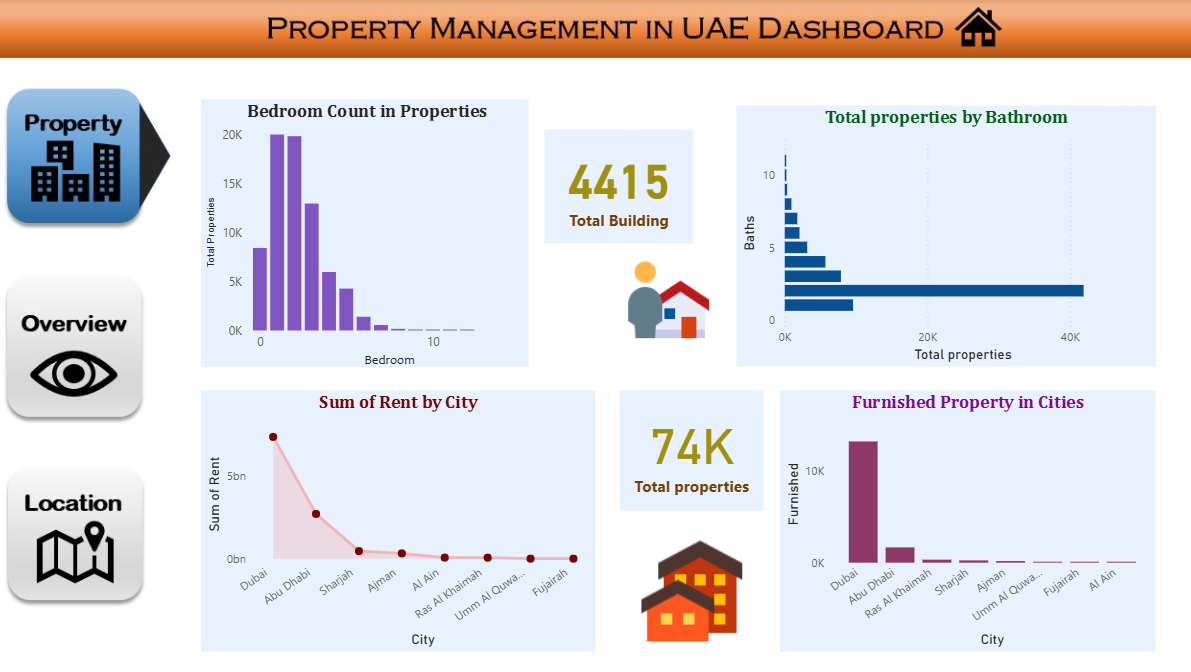

The page's visual inventory and layout, read from the dashboard file:
{"tool":"powerbi","page":{"name":"buildings","canvas":[1280,720],"ordinal":0},"visuals":[{"type":"actionButton","box":[27.8,308.6,120.5,126.1],"z":0},{"type":"actionButton","box":[27.8,495.9,120.5,126.1],"z":1000},{"type":"card","fields":{"Values":["measure table.count_building"]},"box":[576,136.1,155.4,118.5],"z":2000},{"type":"card","fields":{"Values":["measure table.Total properties"]},"box":[654.1,408.3,150.1,125.6],"z":5000},{"type":"columnChart","title":"Bedroom Count in Properties","fields":{"Category":["Sheet1.Beds"],"Y":["CountNonNull(Sheet1.Beds)"]},"box":[219.5,104.5,341.6,278.3],"z":5001},{"type":"clusteredBarChart","title":"Total properties by Bathroom","fields":{"Category":["Sheet1.Baths"],"Y":["measure table.Total properties"]},"box":[776.2,110.6,437.3,272.2],"z":5002},{"type":"areaChart","fields":{"Category":["Sheet1.City"],"Y":["Sum(Sheet1.Rent)"]},"box":[219.5,408.3,410.9,272.2],"z":5003},{"type":"columnChart","title":"Furnished Property in Cities","fields":{"Category":["Sheet1.City"],"Y":["measure table.furnished"]},"box":[821.9,408.3,391.6,272.2],"z":5004},{"type":"image","box":[635.7,254.6,140.5,116.8],"z":5005},{"type":"image","box":[654.1,514.5,150.1,205.5],"z":5006}]}

Visuals, with their boxes in screenshot pixels (x1, y1, x2, y2), scaled from the page's 1280x720 canvas onto the 1191x672 screenshot:
actionButton: x1=26 y1=288 x2=138 y2=406
actionButton: x1=26 y1=463 x2=138 y2=581
card - measure table.count_building: x1=536 y1=127 x2=681 y2=238
card - measure table.Total properties: x1=609 y1=381 x2=748 y2=498
"Bedroom Count in Properties" columnChart: x1=204 y1=98 x2=522 y2=357
"Total properties by Bathroom" clusteredBarChart: x1=722 y1=103 x2=1129 y2=357
areaChart - Sheet1.City x Sum(Sheet1.Rent): x1=204 y1=381 x2=587 y2=635
"Furnished Property in Cities" columnChart: x1=765 y1=381 x2=1129 y2=635
image: x1=591 y1=238 x2=722 y2=347
image: x1=609 y1=480 x2=748 y2=671
